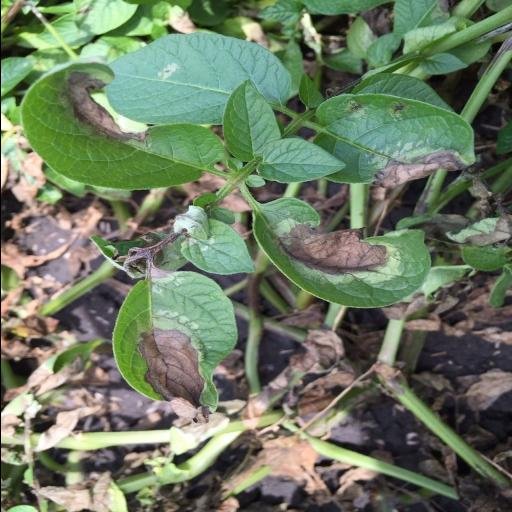disease_tomato: (14, 60, 227, 192), (246, 193, 430, 311), (108, 269, 238, 423), (296, 96, 486, 187)
